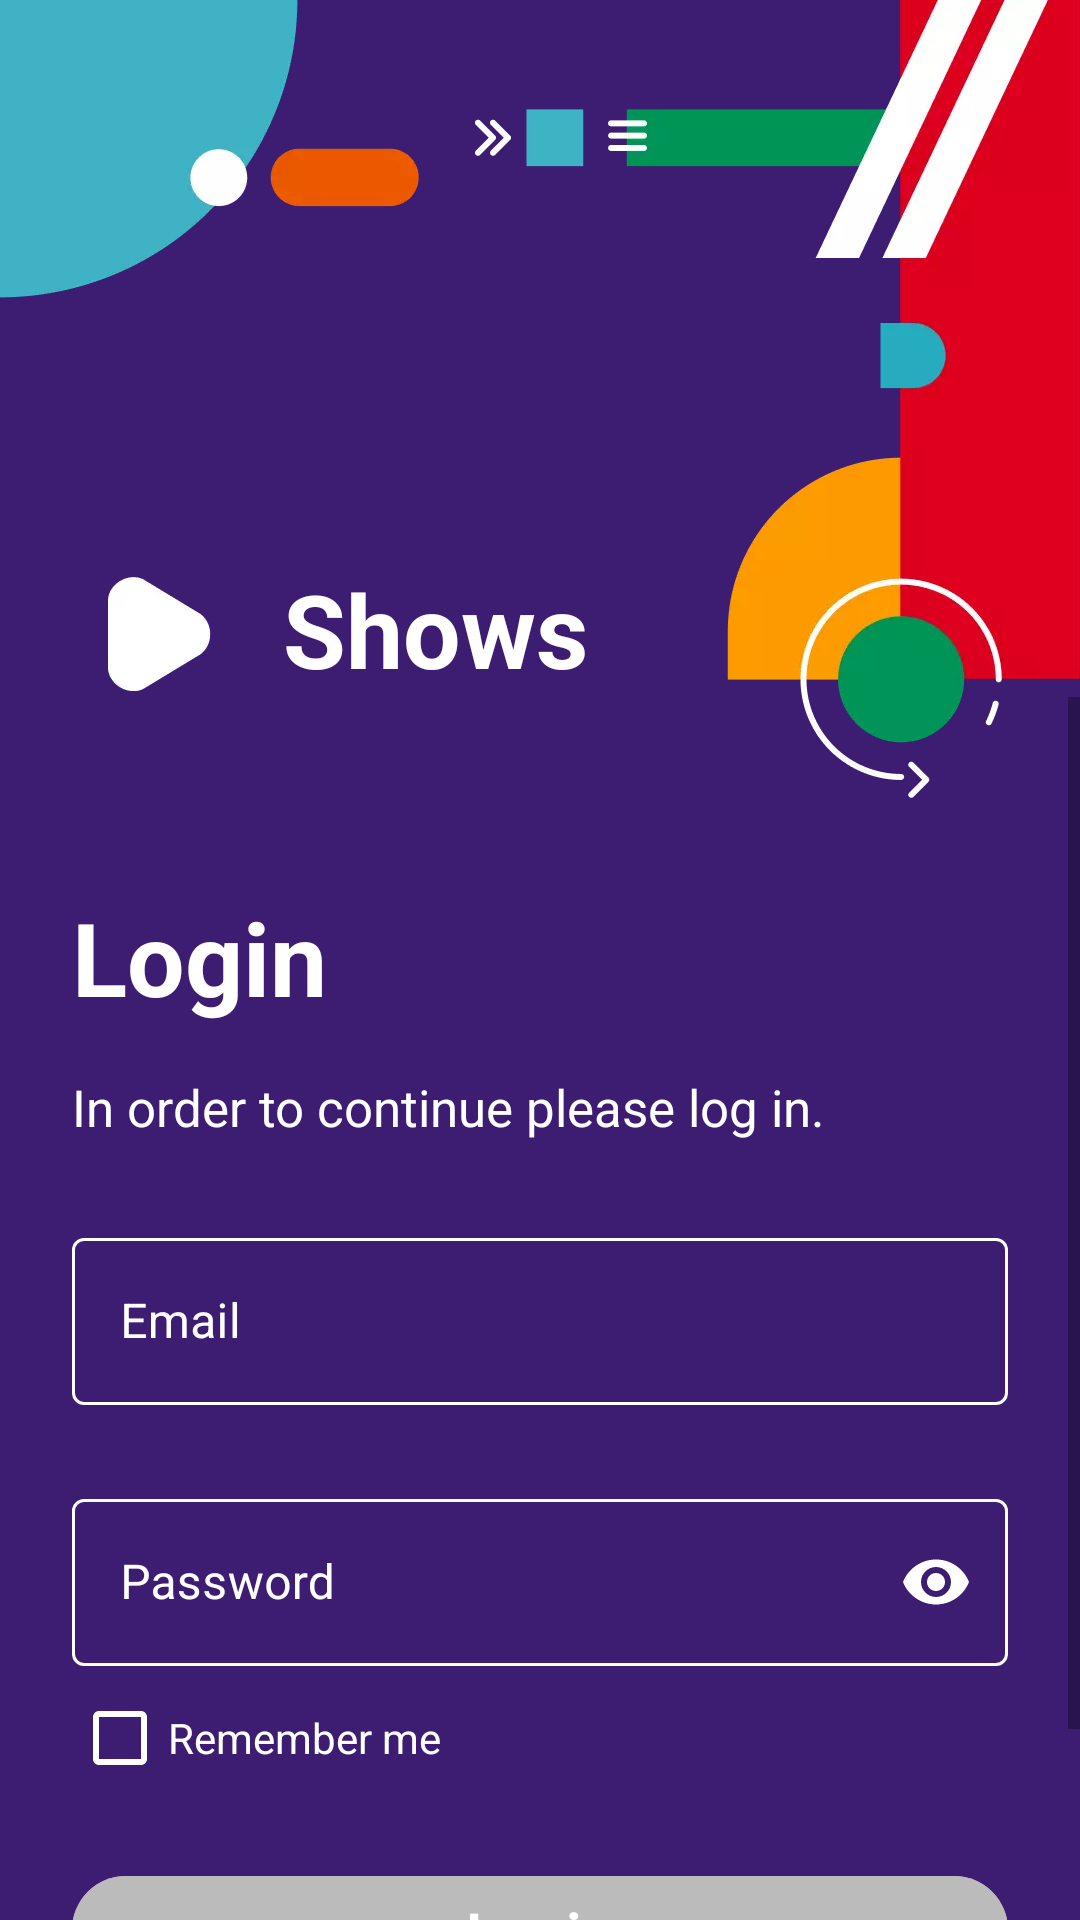

Where to tap for icons on this 1080 x 1920 app screen, as [x,y]:
play for title: [159,634]
